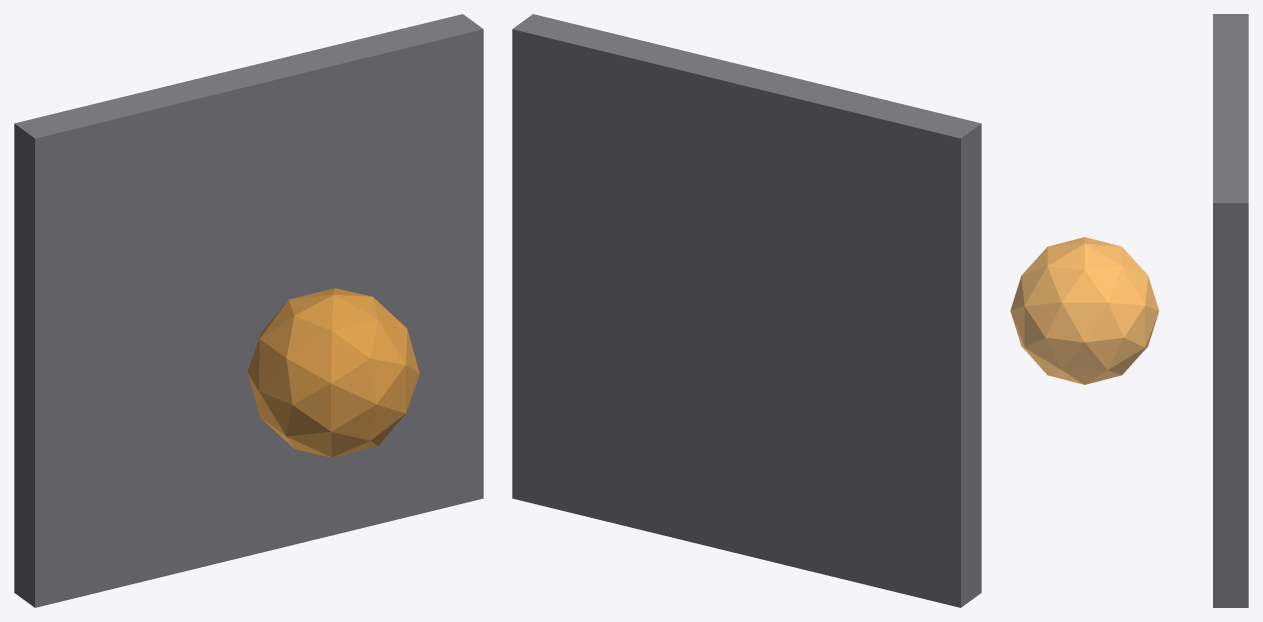
Rendered from 11_collapsing_bridge_segment.glb.
3 views of the same model, side by side, from view 1: azimuth 30°, elevation 25°; view 2: azimuth 150°, elevation 25°; view 3: azimuth 270°, elevation 25° (orthographic). The views are drawn at different scales.
Visible parts, largest first — view 1: trap_base, hazard_core; view 2: trap_base; view 3: trap_base, hazard_core.
Part boxes in pixels (x1,y1,x2,y2): trap_base: (14,14,483,607); hazard_core: (247,288,419,457); trap_base: (512,14,981,607); trap_base: (1213,14,1248,607); hazard_core: (1010,237,1158,384).
Size of the model in its own units: 1.5 by 1.5 by 0.8.
